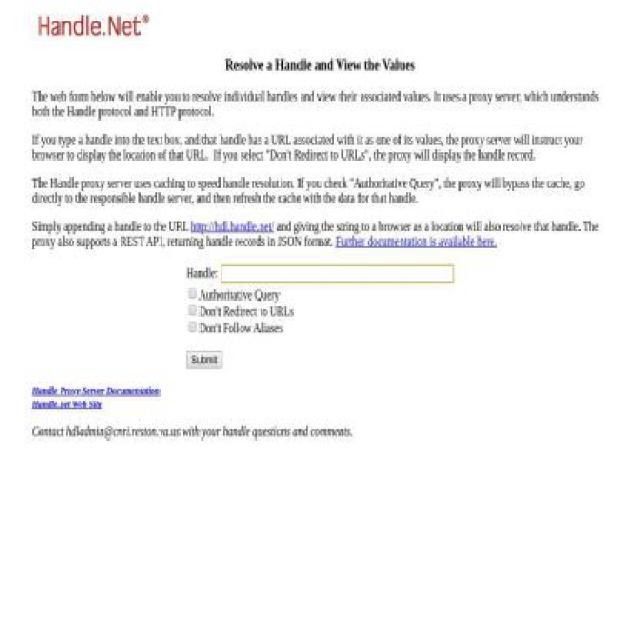field: (220, 265, 454, 283), (187, 351, 222, 369), (188, 321, 198, 334), (188, 288, 198, 300), (188, 305, 198, 317)
